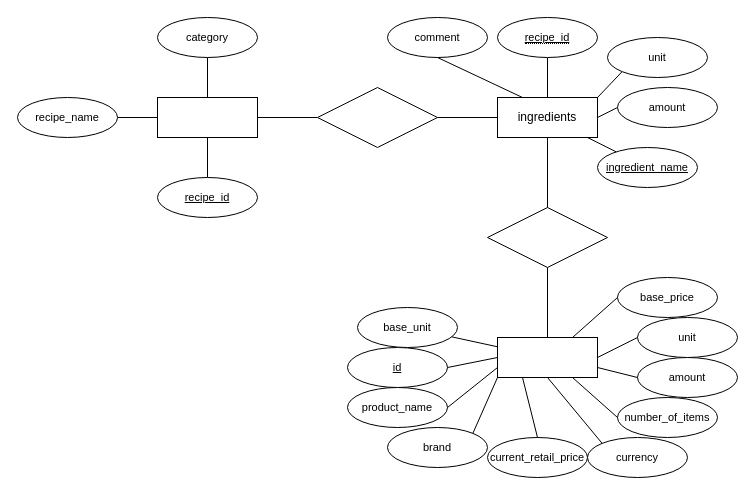
The diagram is 755 pixels wide and 495 high, and some of its shapes have lost their labels. Each missing label, with the centre of its shape:
available as: [547,237]
contains: [377,117]
products (supermarket): [547,357]
recipes: [207,117]
